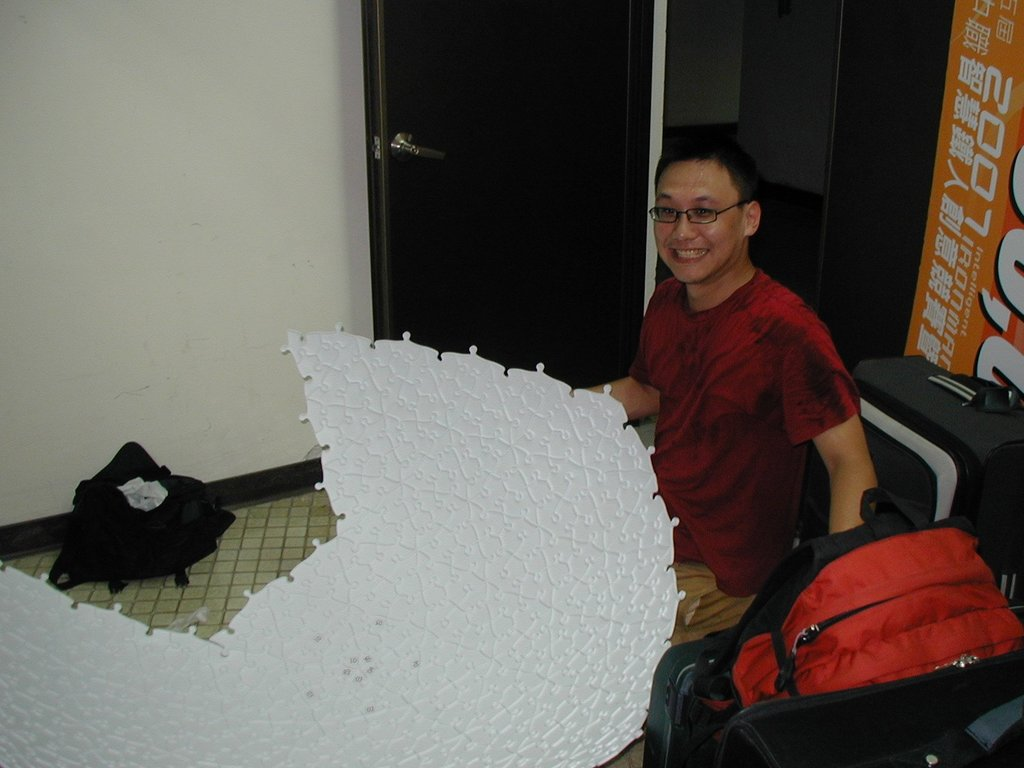Human-face: (655, 162, 746, 286)
